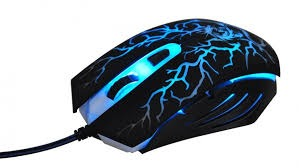mouse: (63, 14, 287, 157)
